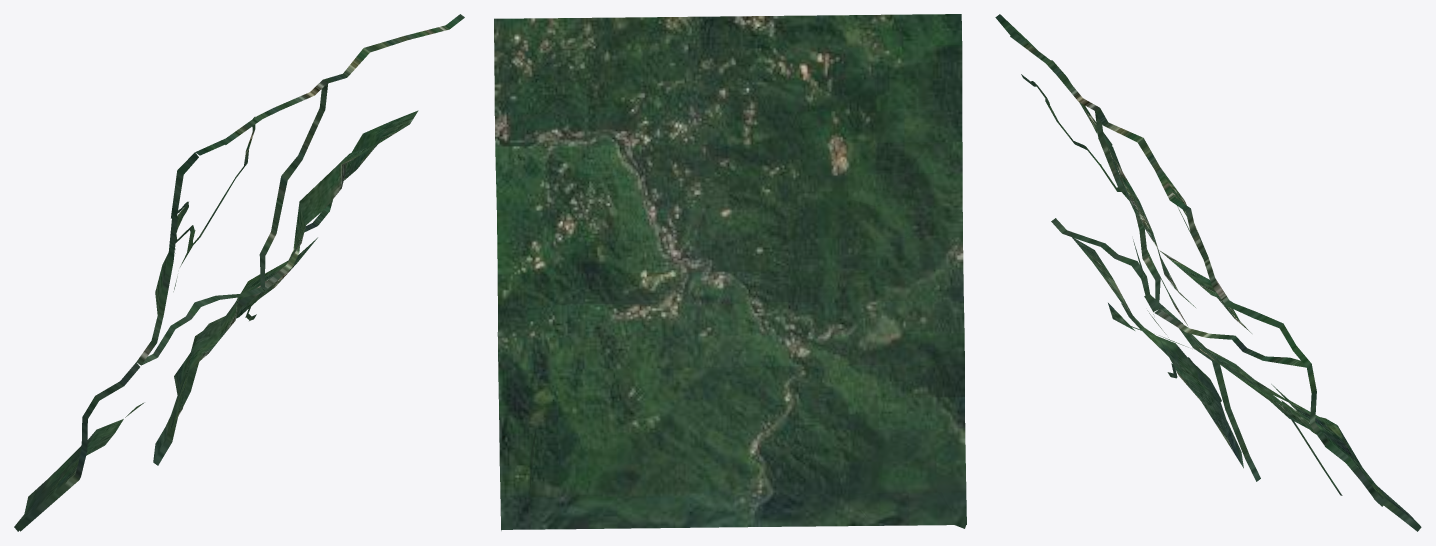
The picture shows the model from 3 angles, left to right: view 1: azimuth 30°, elevation 25°; view 2: azimuth 150°, elevation 25°; view 3: azimuth 270°, elevation 25°; orthographic projection. The views are drawn at different scales.
Bounding box in the file's own units: 5133 × 4633 × 4223.
1 material, 1 textured.
